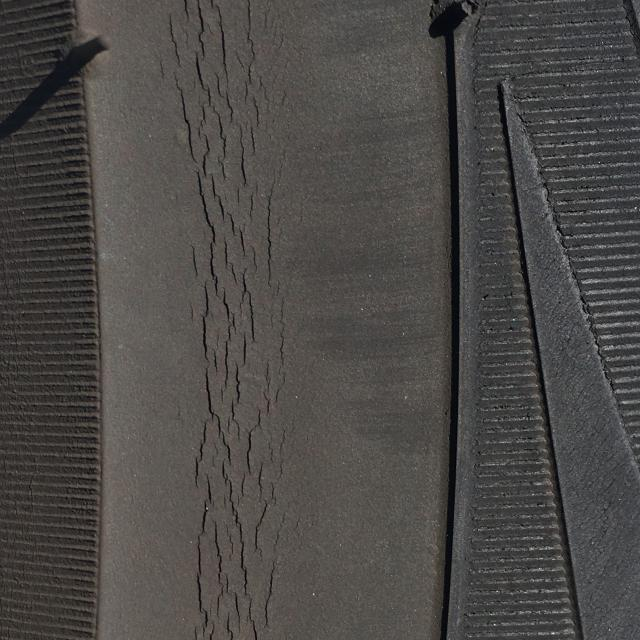Cracks: (139, 0, 307, 640)
